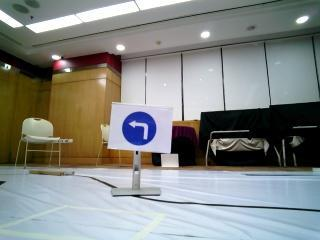left: (120, 106, 167, 149)
